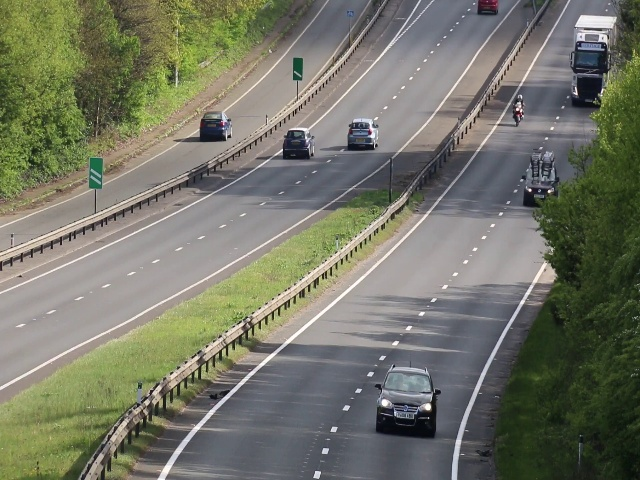car: (379, 364, 435, 434), (572, 39, 603, 107), (523, 160, 557, 205), (281, 126, 314, 158), (199, 109, 231, 139), (348, 119, 379, 148)
